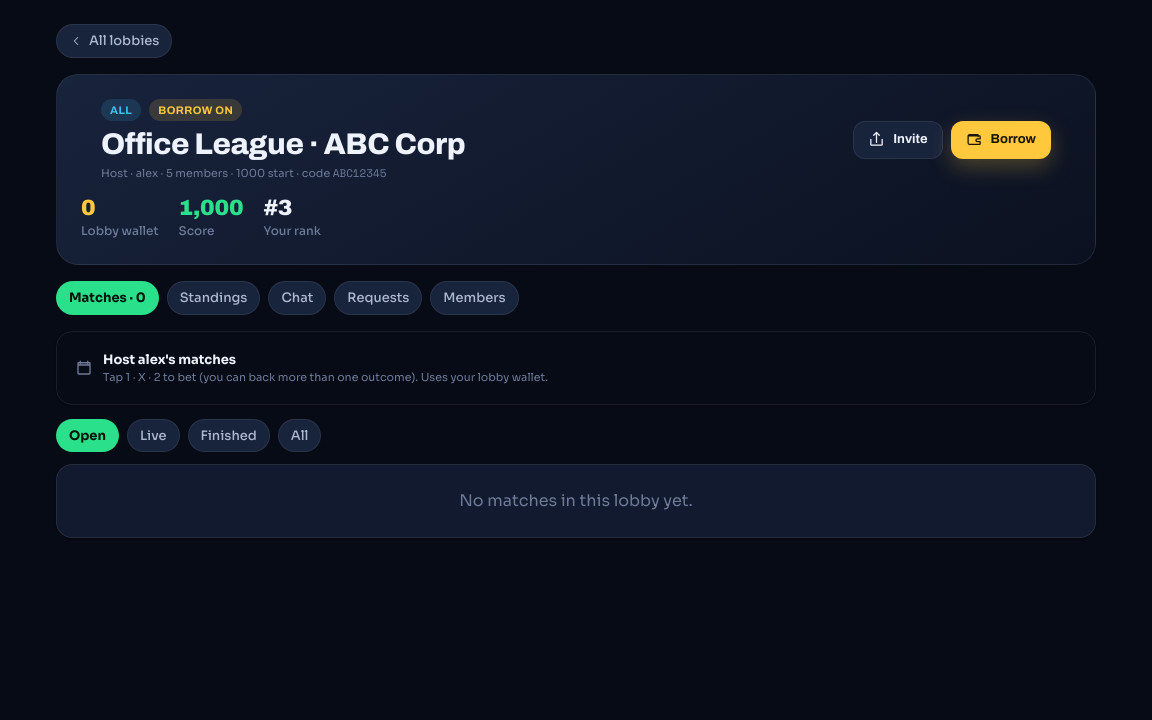
Test case: LobbyView › Requests tab renders borrow requests heading
This screenshot has width=1152, height=720.
expect the heading "Office League · ABC Corp" is shown: met, box [101,129,465,161]
Click the button "Requests" at (378,298), box [334,281,422,315]
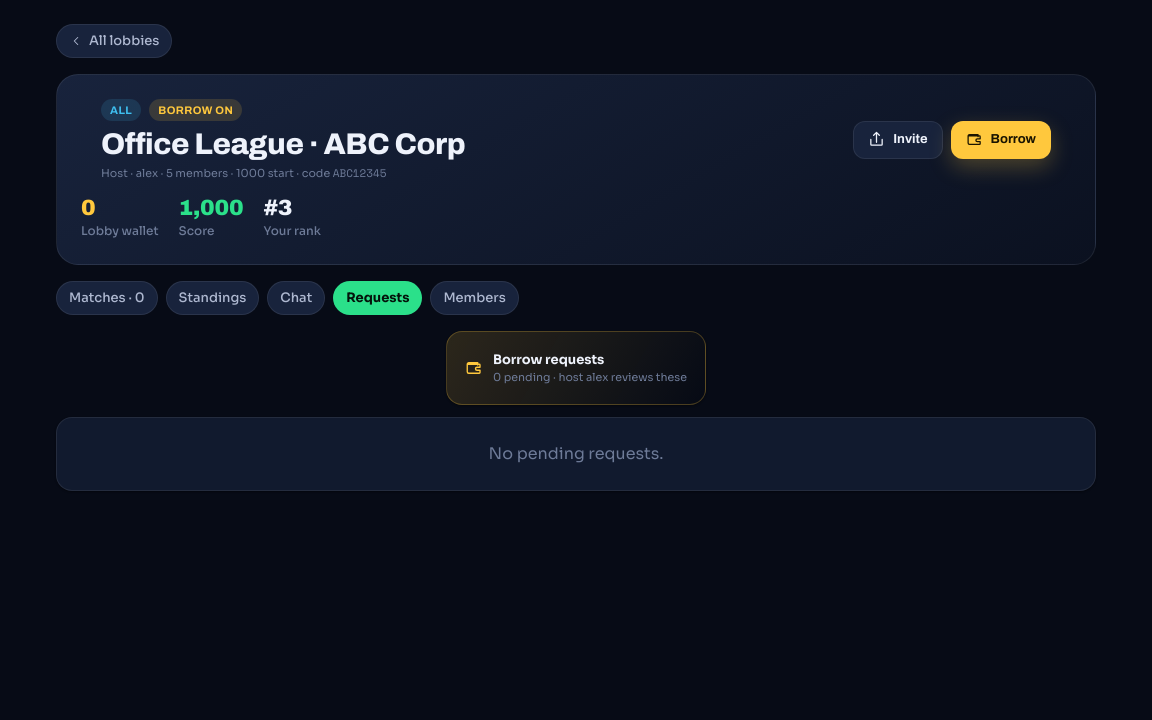
expect the text "Borrow requests" is shown: met, box [493,351,604,368]
